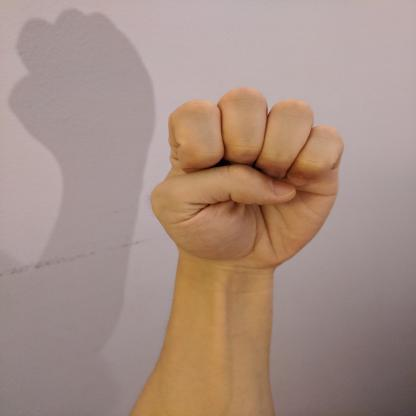E: (148, 84, 350, 270)
